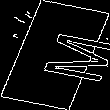M_W: (10, 26, 100, 84)
